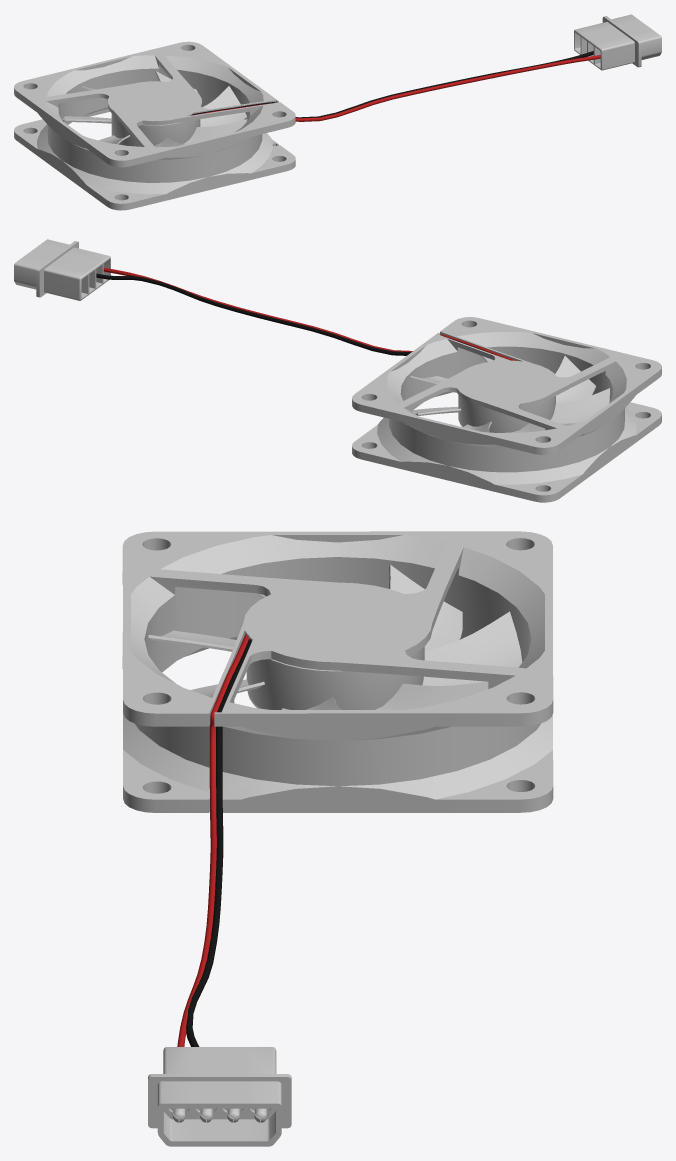
File: pc_fan.fbx
3 views of the same model, one above another, from view 1: azimuth 30°, elevation 25°; view 2: azimuth 150°, elevation 25°; view 3: azimuth 270°, elevation 25° (orthographic). The views are drawn at different scales.
Parts seen in each view (by area): view 1: pc_fan, pc_fan_plug, pc_fan_cables; view 2: pc_fan, pc_fan_plug, pc_fan_cables; view 3: pc_fan, pc_fan_plug, pc_fan_cables.
Part boxes in pixels (x1,y1,x2,y2): pc_fan: [14, 41, 295, 210]; pc_fan_plug: [574, 14, 661, 70]; pc_fan_cables: [191, 51, 600, 121]; pc_fan: [352, 317, 661, 502]; pc_fan_plug: [14, 239, 110, 300]; pc_fan_cables: [96, 267, 516, 360]; pc_fan: [122, 531, 553, 812]; pc_fan_plug: [148, 1047, 291, 1146]; pc_fan_cables: [177, 634, 251, 1046].
Bounding box in the file's own units: 23.8 × 2.11 × 7.99.
